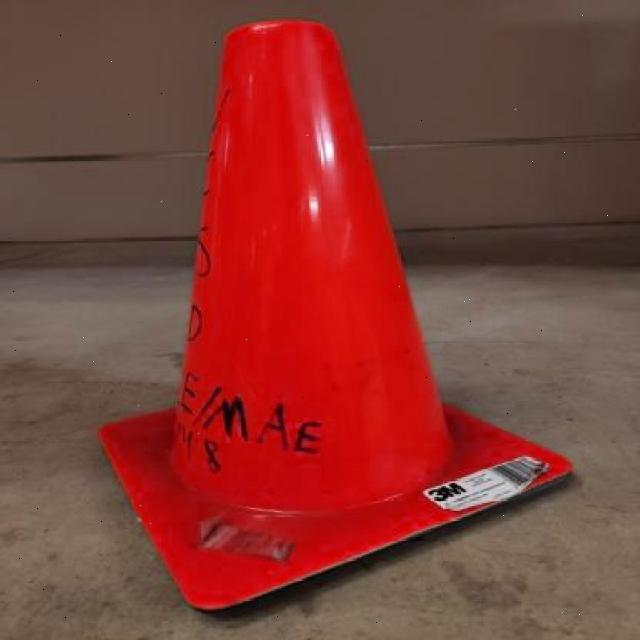traffic cone: (81, 11, 591, 629)
